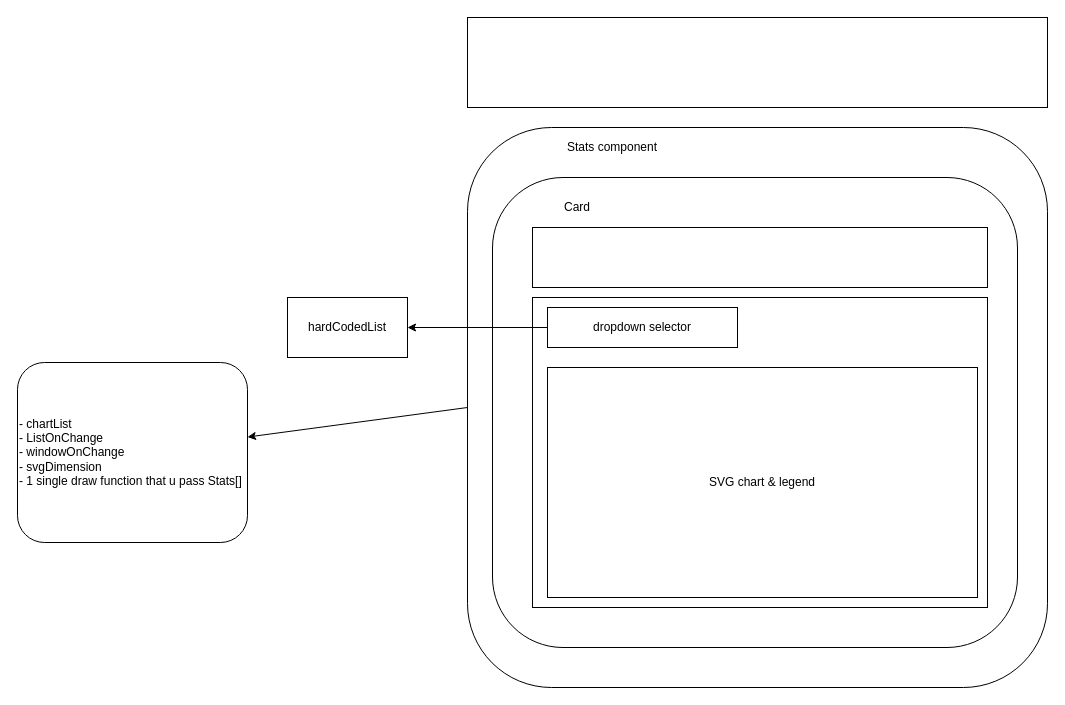
This 1065x705 diagram has some shape labels left out. Here are the shapes that lost their labels. From the top down, the centre of each, then its label:
At pixel 757 62: "Calendar/FilterComponent".
At pixel 760 257: "Estadisticas del : Startdate - EndDate Total gastado: 123123131232 €".
